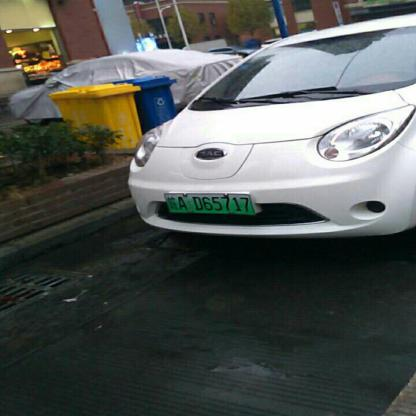lp: (164, 192, 256, 214)
